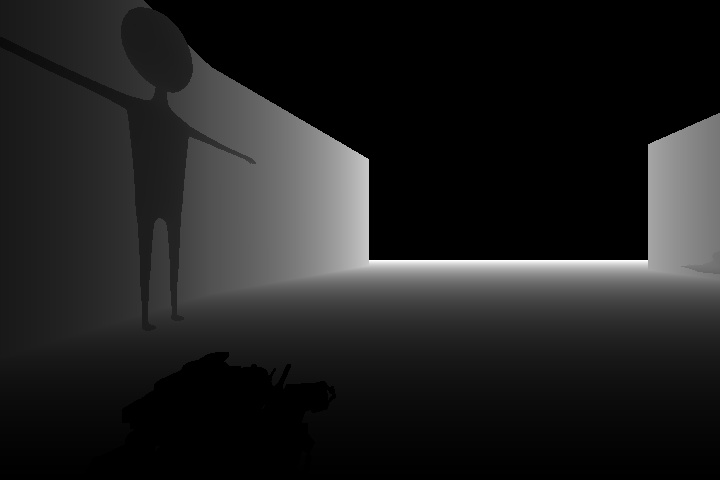alien: (1, 4, 259, 334)
